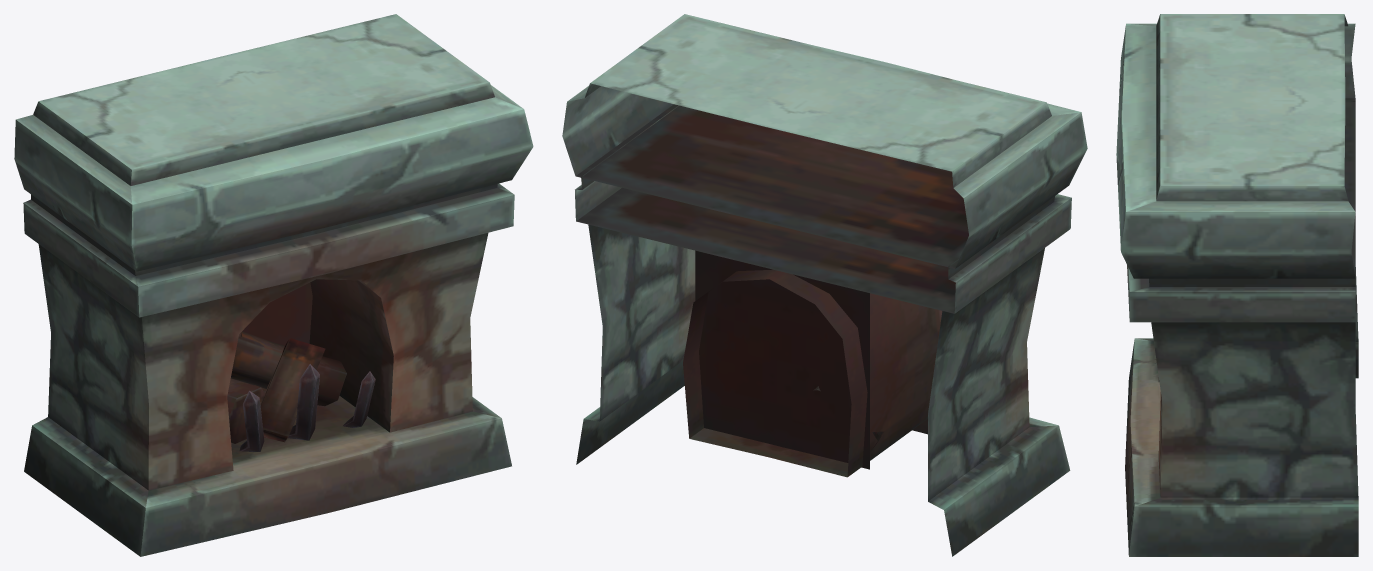
File: crypt_fireplace01.fbx
3 renders of one model, left to right at view 1: azimuth 30°, elevation 25°; view 2: azimuth 150°, elevation 25°; view 3: azimuth 270°, elevation 25°, orthographic. The views are drawn at different scales.
Parts seen in each view (by area): view 1: bookcase_stonework; view 2: bookcase_stonework; view 3: bookcase_stonework.
Boxes of the visible parts, x1,y1,x2,y2 form: bookcase_stonework: (14, 14, 533, 556); bookcase_stonework: (562, 14, 1087, 556); bookcase_stonework: (1116, 14, 1358, 556).
Size of the model in its own units: 3.21 by 2.85 by 1.7.
